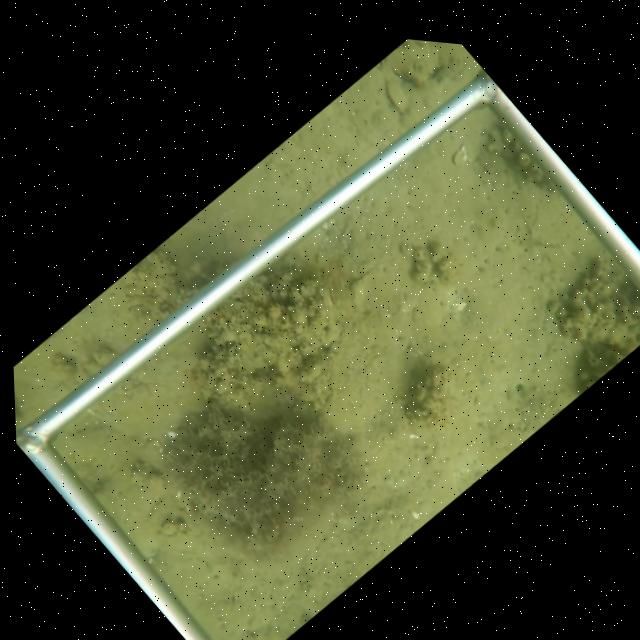Oyster-Closed: (379, 71, 415, 119), (321, 274, 340, 312)
